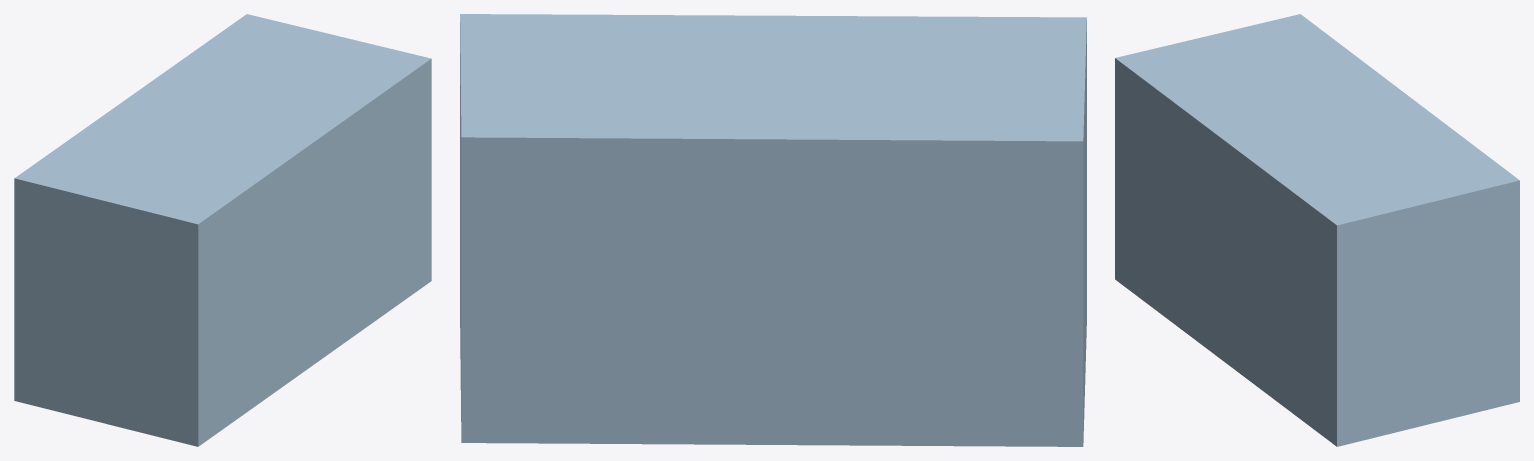
File: osm_way_1173057052.glb
The picture shows the model from 3 angles, left to right: view 1: azimuth 30°, elevation 25°; view 2: azimuth 150°, elevation 25°; view 3: azimuth 270°, elevation 25°; orthographic projection. The views are drawn at different scales.
Parts seen in each view (by area): view 1: osm_way_1173057052; view 2: osm_way_1173057052; view 3: osm_way_1173057052.
Part boxes in pixels (box(x1,y1,x2,y2)): osm_way_1173057052: box(14, 14, 431, 446); osm_way_1173057052: box(460, 14, 1086, 446); osm_way_1173057052: box(1115, 14, 1519, 446).
Bounding box in the file's own units: 45.46 × 22.2 × 36.78.
